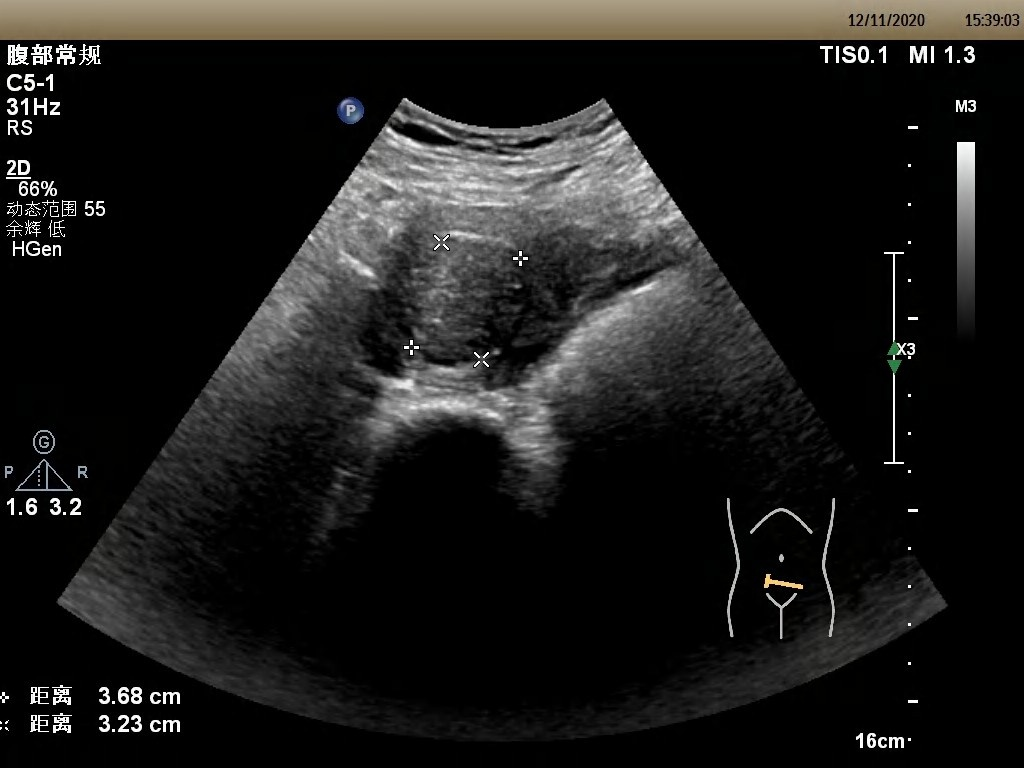肌瘤: (416, 235, 510, 352)
